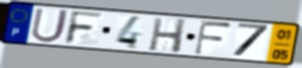4: (112, 14, 143, 50)
7: (233, 22, 272, 60)
F: (192, 19, 234, 57), (62, 9, 105, 46)
H: (147, 17, 189, 55)
U: (30, 7, 72, 44)
